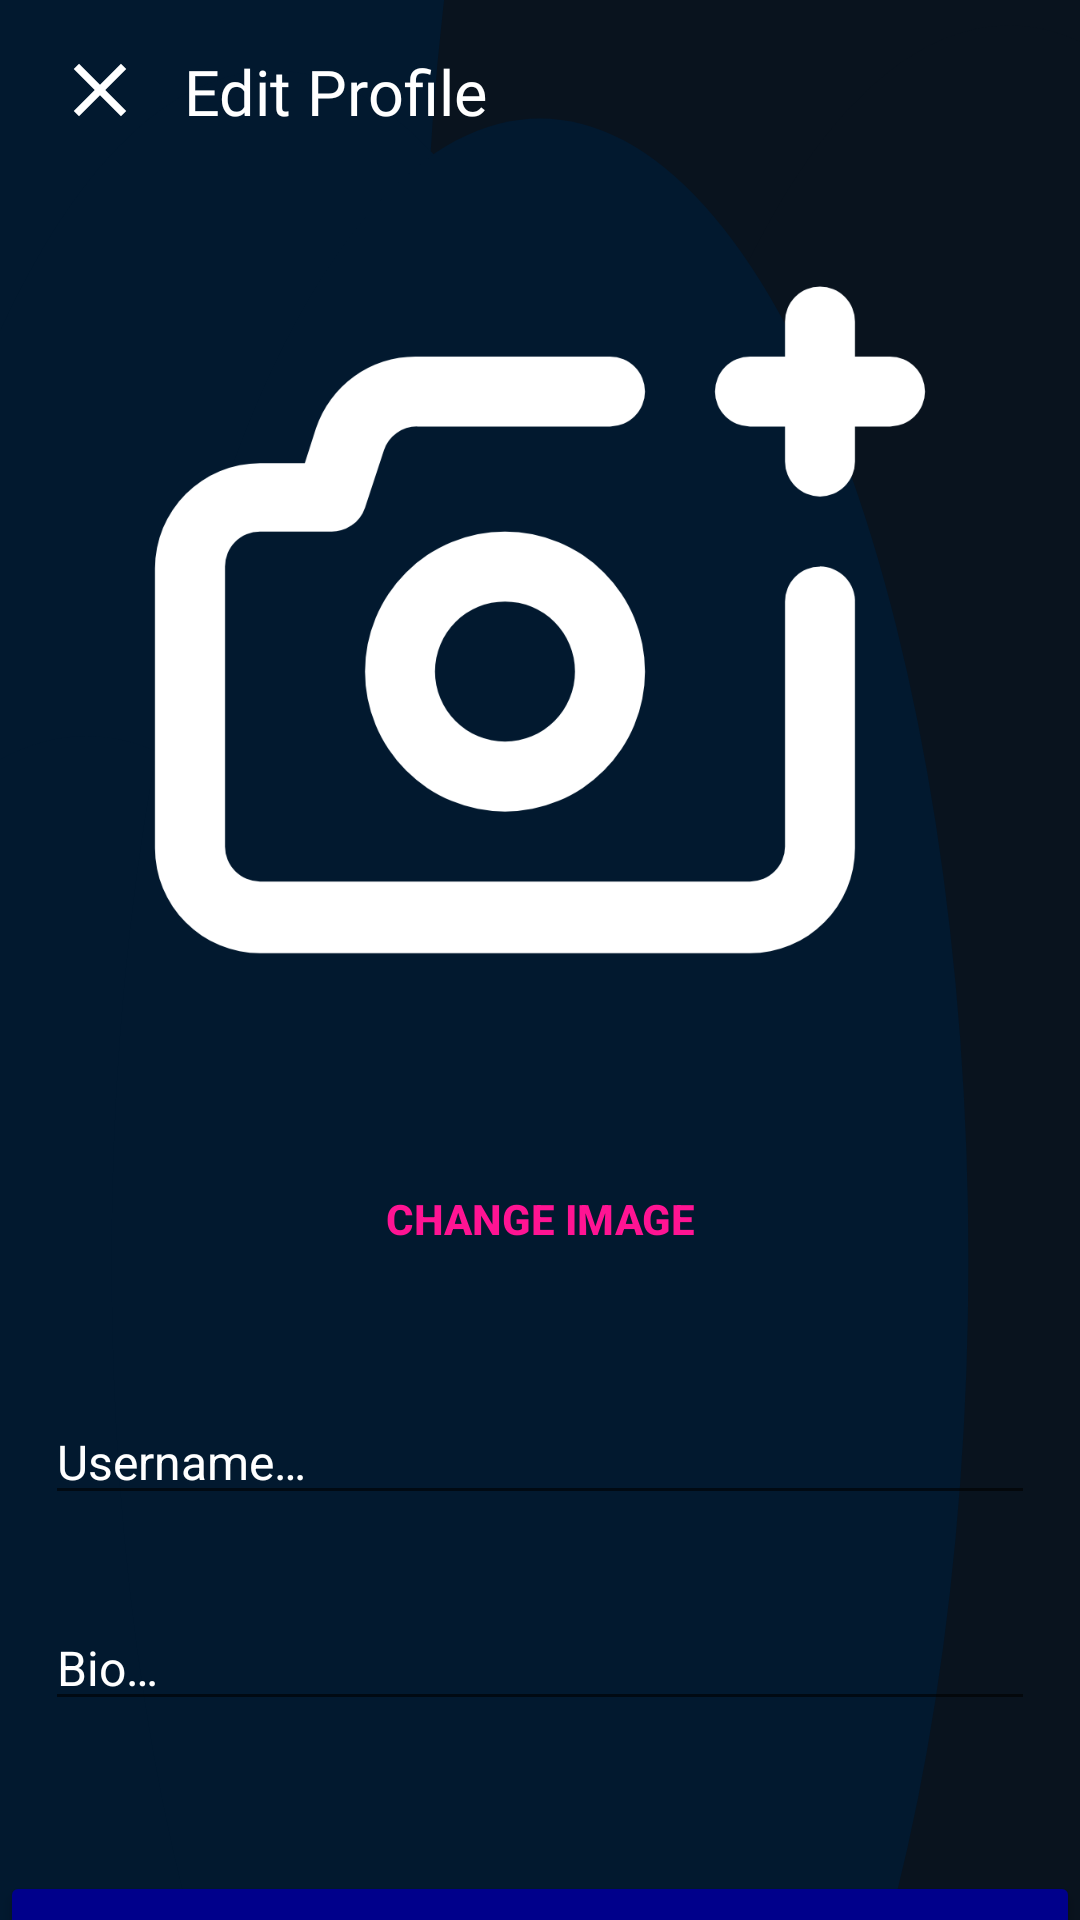

Named icons in this screenshot (1080×1920) and their bounding boxes, {"x1": x1, "y1": y1, "x2": x2, "y2": y2}:
close: {"x1": 74, "y1": 64, "x2": 126, "y2": 116}
